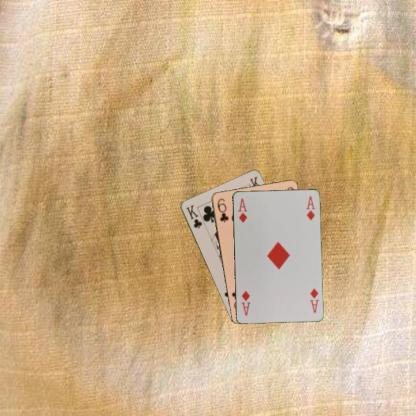6c: (214, 196, 230, 224)
Ad: (307, 285, 320, 314), (235, 196, 248, 224)
Kc: (184, 203, 204, 230)
